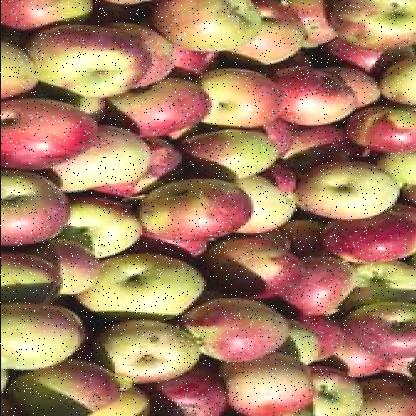apple: (32, 22, 148, 94), (89, 255, 198, 325), (206, 233, 310, 304), (148, 176, 250, 247), (50, 129, 146, 204), (104, 320, 206, 387), (112, 75, 208, 143), (188, 299, 290, 362), (213, 5, 307, 66), (5, 101, 99, 162), (330, 198, 416, 264), (2, 169, 72, 248), (70, 196, 158, 258), (7, 302, 84, 372), (230, 350, 312, 414), (188, 70, 280, 127), (27, 358, 119, 414), (160, 3, 262, 51), (282, 74, 366, 126), (285, 256, 359, 314), (344, 300, 414, 360), (310, 166, 396, 214), (188, 130, 270, 178)
